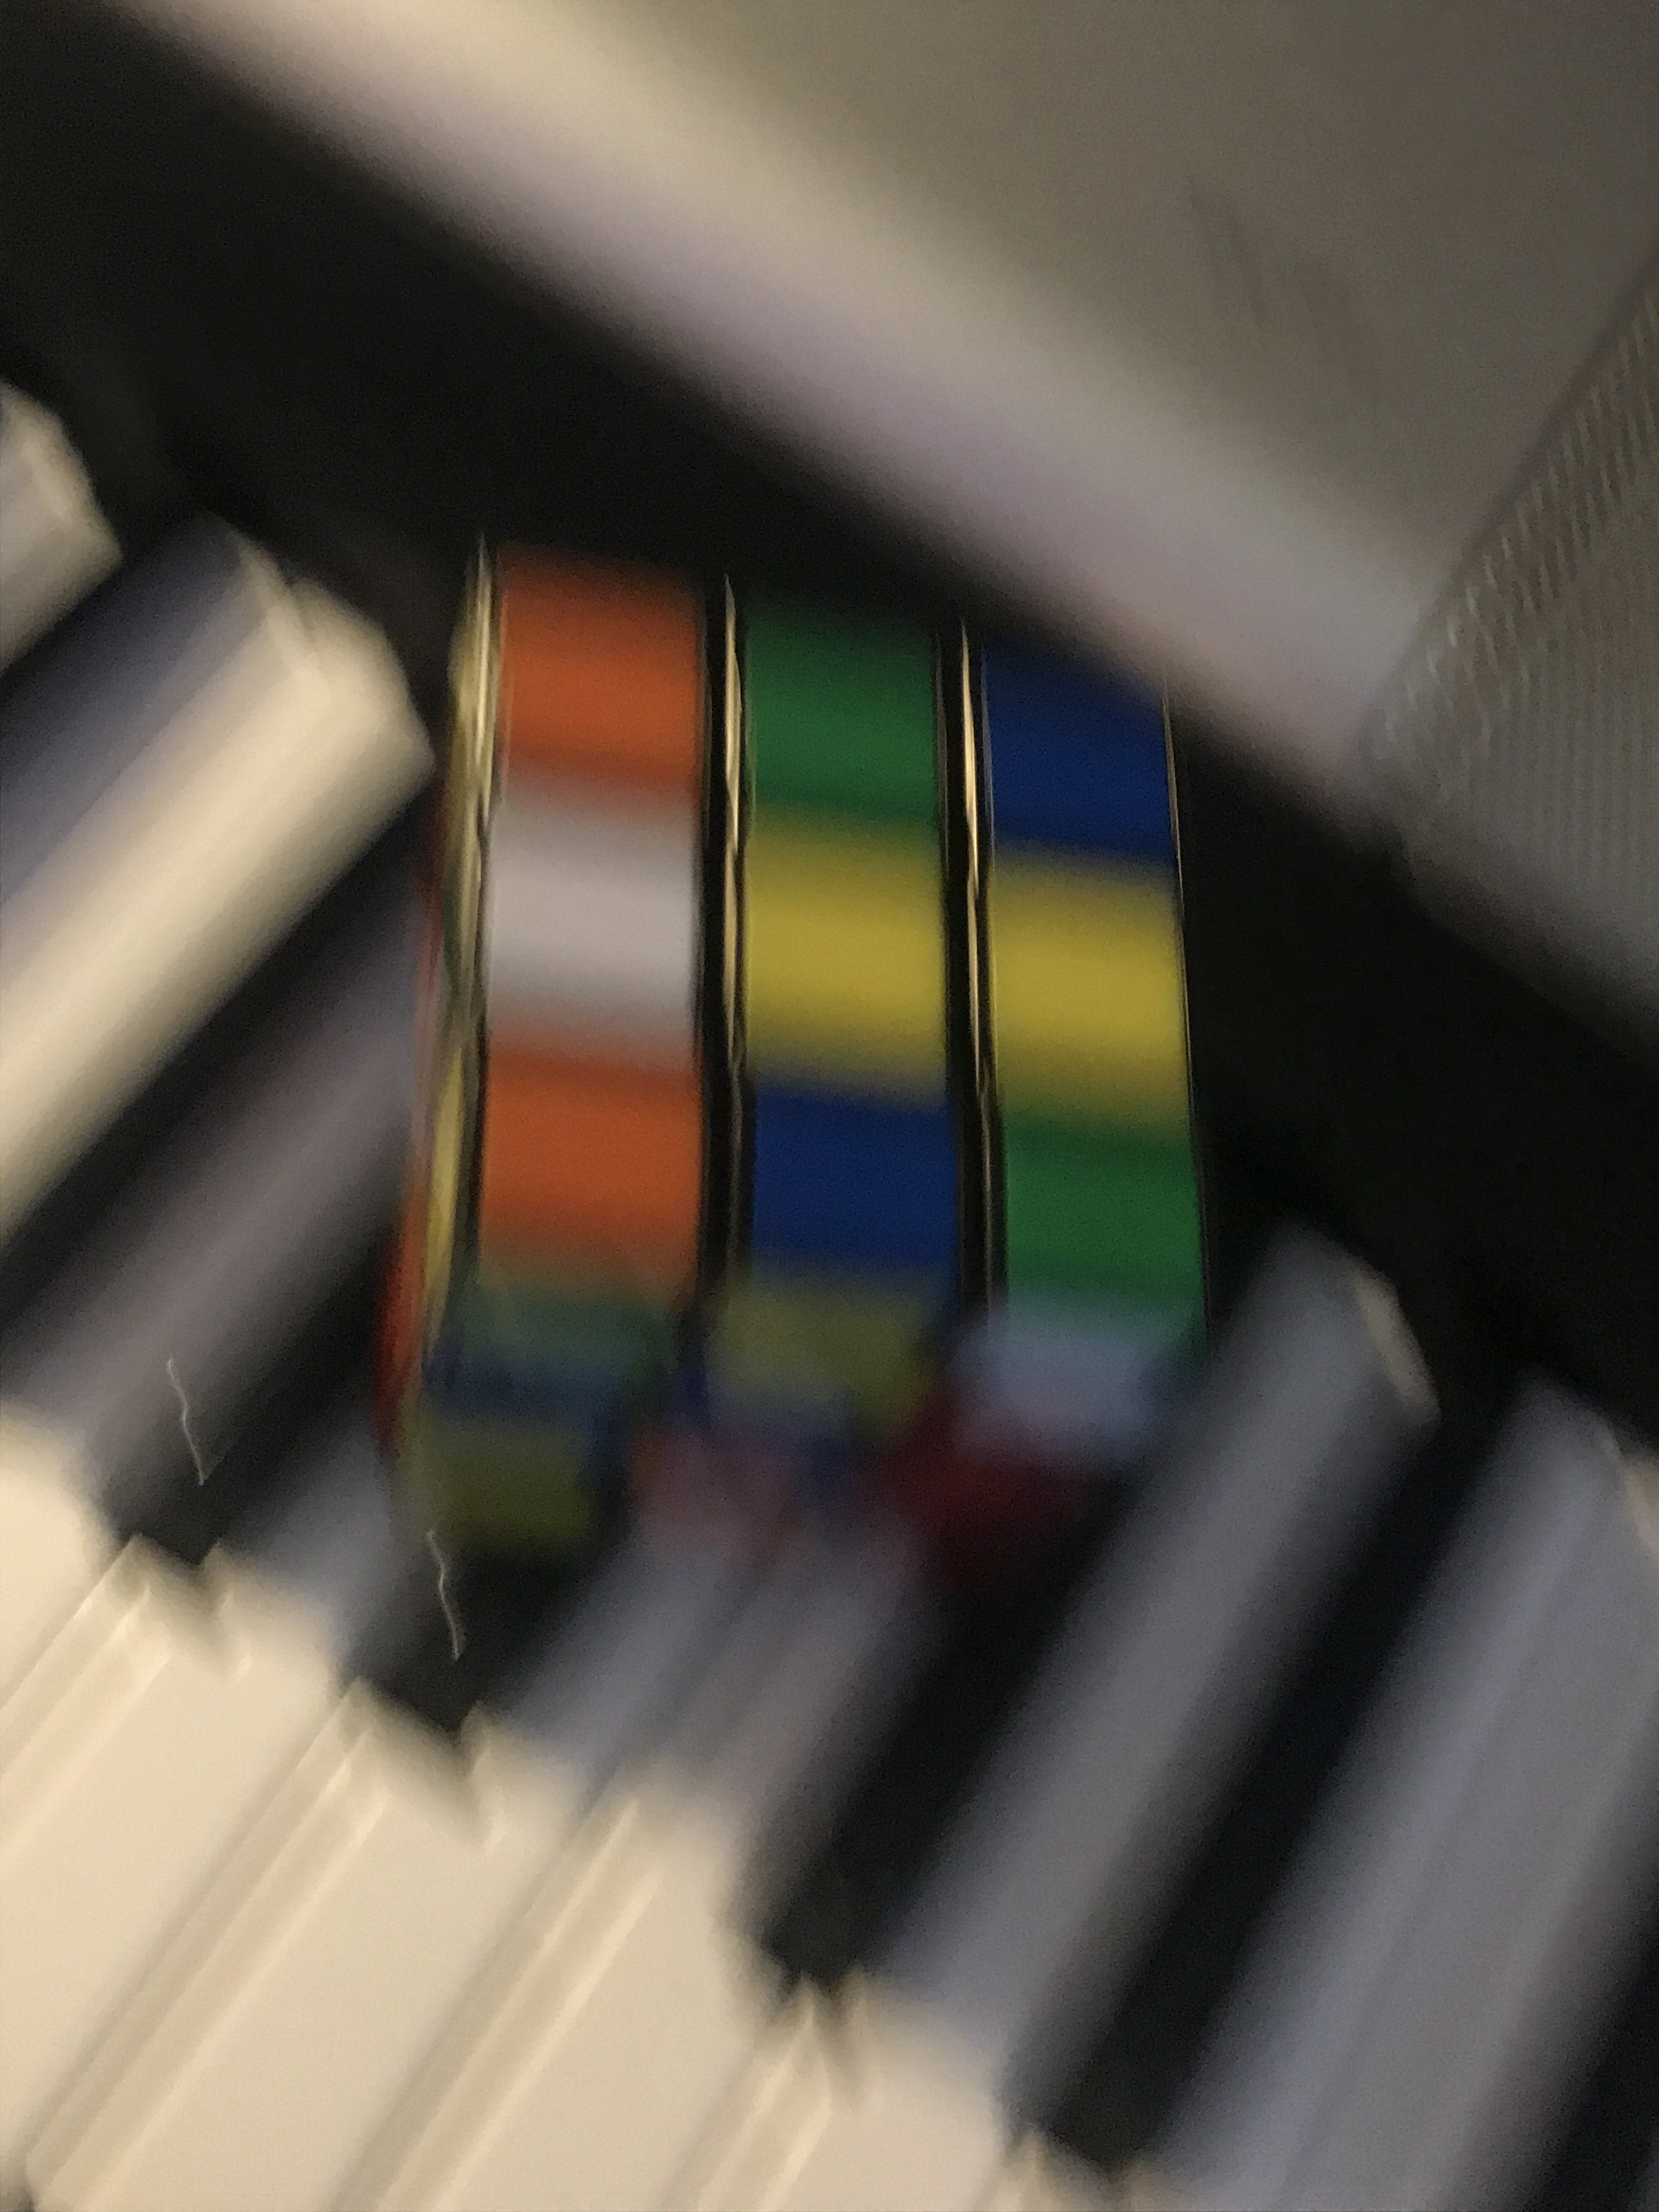rubiks: (350, 564, 1220, 1620)
